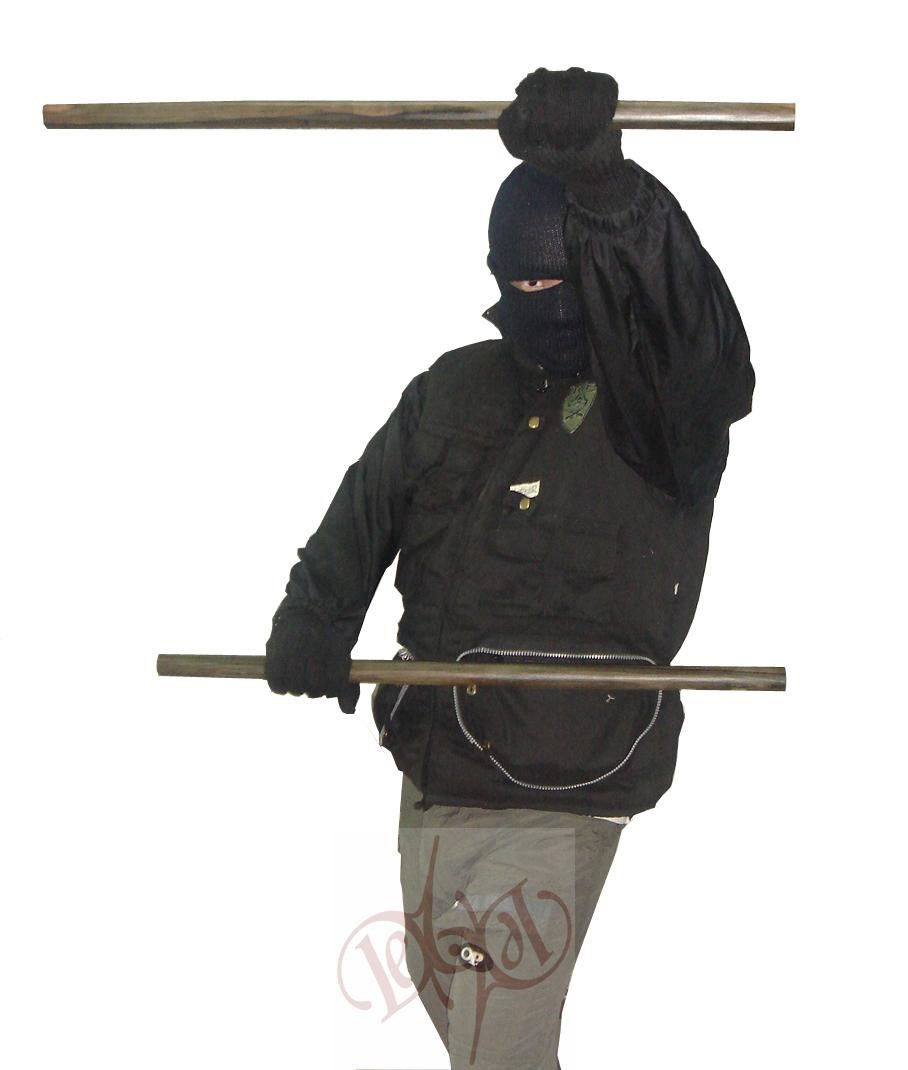baston_e: (53, 96, 786, 138), (168, 648, 778, 692)
baston_v: (777, 90, 809, 139), (35, 94, 67, 136), (771, 658, 795, 701), (144, 647, 173, 682)
